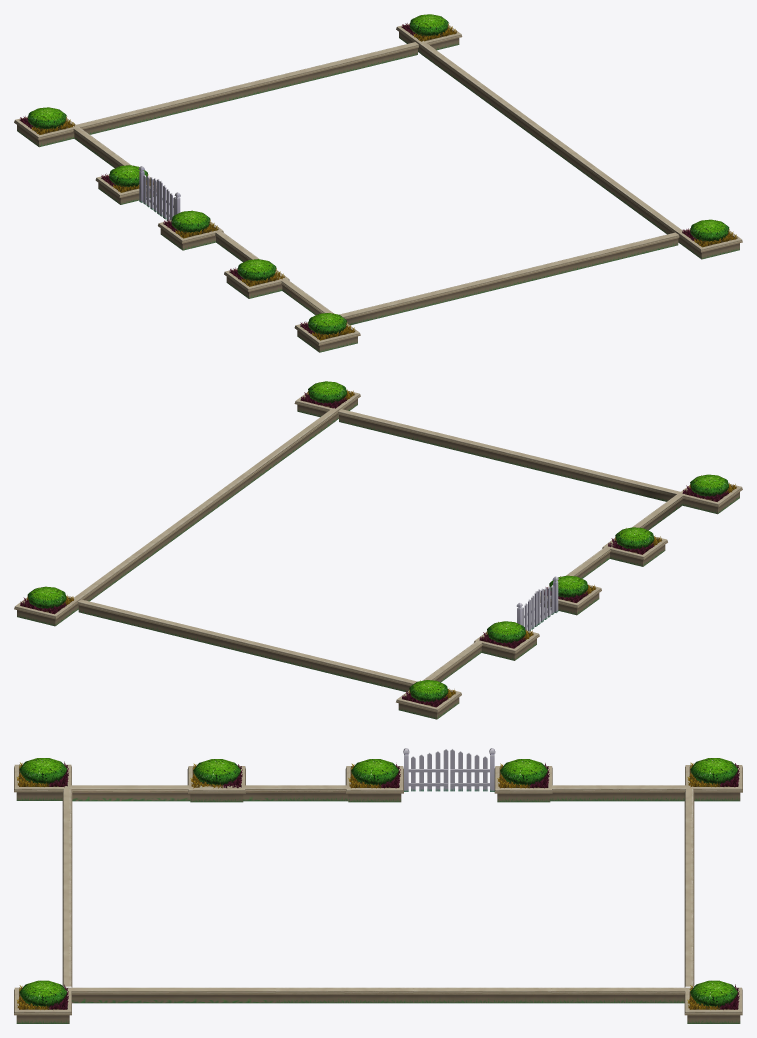
File: furni_0200930.FBX
3 views of the same model, one above another, from view 1: azimuth 30°, elevation 25°; view 2: azimuth 150°, elevation 25°; view 3: azimuth 270°, elevation 25° (orthographic). The views are drawn at different scales.
Visible parts, largest first — view 1: furni_0200930; view 2: furni_0200930; view 3: furni_0200930.
Part boxes in pixels (<box>): furni_0200930: <box>14,14,742,352</box>; furni_0200930: <box>14,381,742,719</box>; furni_0200930: <box>14,748,742,1023</box>.
Size of the model in its own units: 1980 by 161 by 2466.
Materials: 3 (3 with a texture image).
